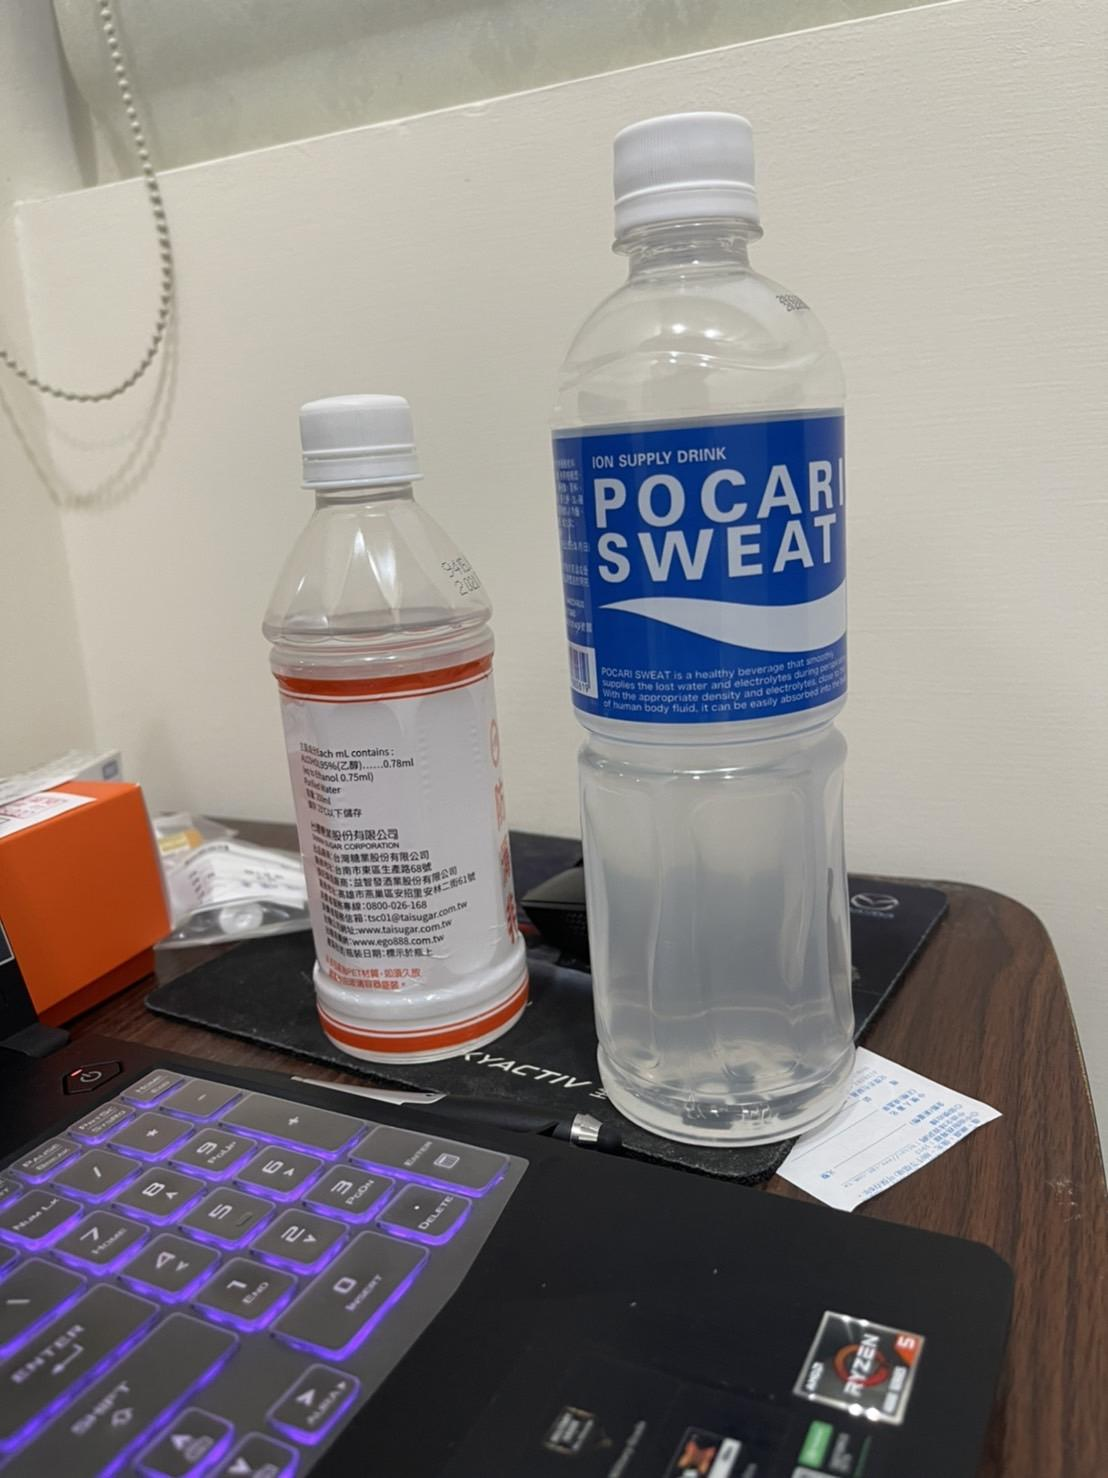bottle: (533, 99, 888, 1175), (185, 370, 489, 1085)
